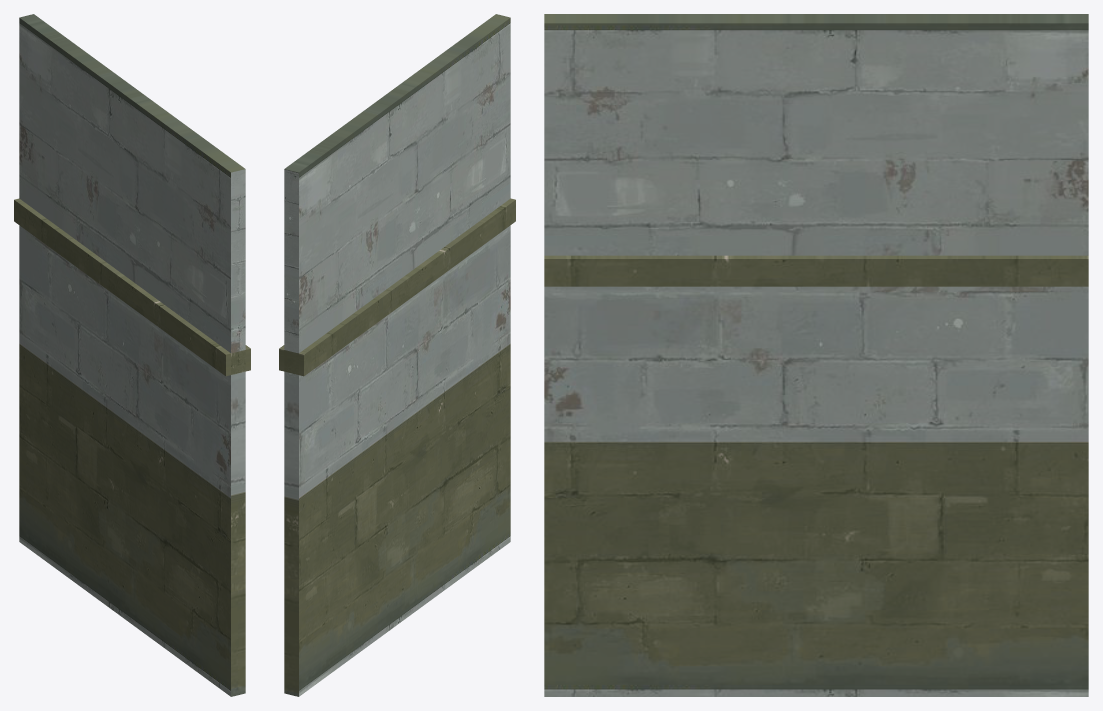
The model's file is Wall_Medium.fbx.
3 renders of one model, left to right at view 1: azimuth 30°, elevation 25°; view 2: azimuth 150°, elevation 25°; view 3: azimuth 270°, elevation 25°, orthographic. The views are drawn at different scales.
Visible parts, largest first — view 1: Wall_Medium.005; view 2: Wall_Medium.005; view 3: Wall_Medium.005.
Boxes of the visible parts, <box> form: Wall_Medium.005: <box>14,14,250,696</box>; Wall_Medium.005: <box>279,14,515,696</box>; Wall_Medium.005: <box>544,14,1088,696</box>.
Size of the model in its own units: 0.4076 by 8.13 by 5.96.
